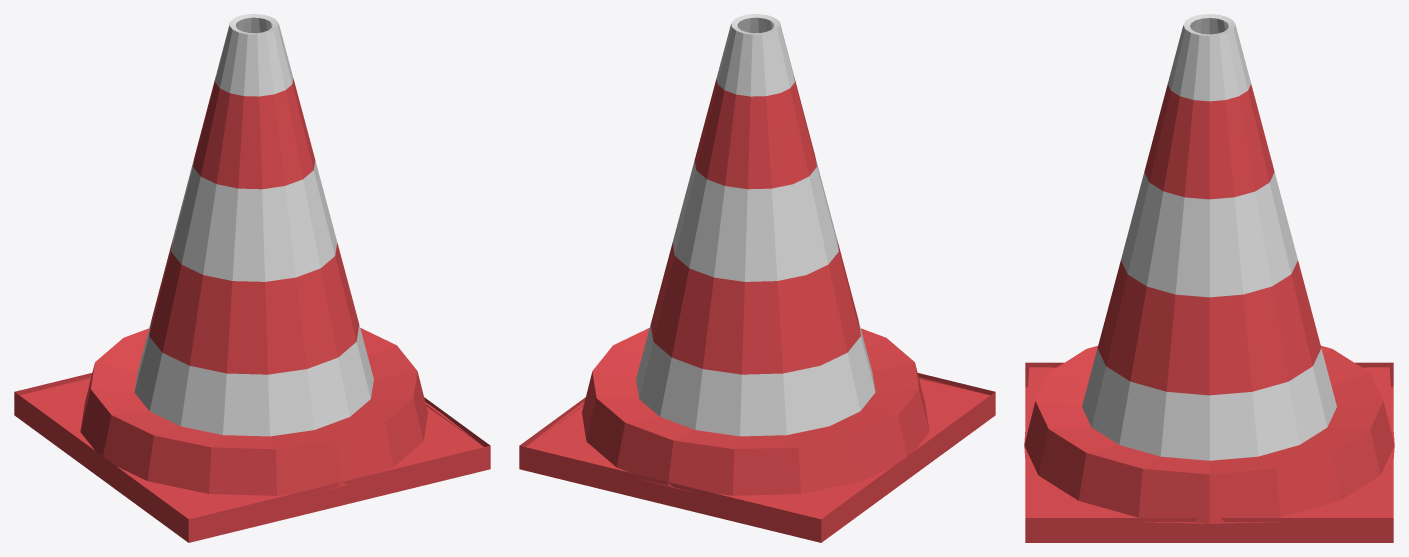
The model's file is plot3dTrainning.fbx.
3 views of the same model, side by side, from view 1: azimuth 30°, elevation 25°; view 2: azimuth 150°, elevation 25°; view 3: azimuth 270°, elevation 25° (orthographic). The views are drawn at different scales.
Visible parts, largest first — view 1: Cylinder.002; view 2: Cylinder.002; view 3: Cylinder.002.
Boxes of the visible parts, left/top/right/bottom form: Cylinder.002: left=14, top=14, right=490, bottom=542; Cylinder.002: left=519, top=14, right=995, bottom=542; Cylinder.002: left=1024, top=14, right=1394, bottom=542.
Size of the model in its own units: 104 by 136 by 104.
